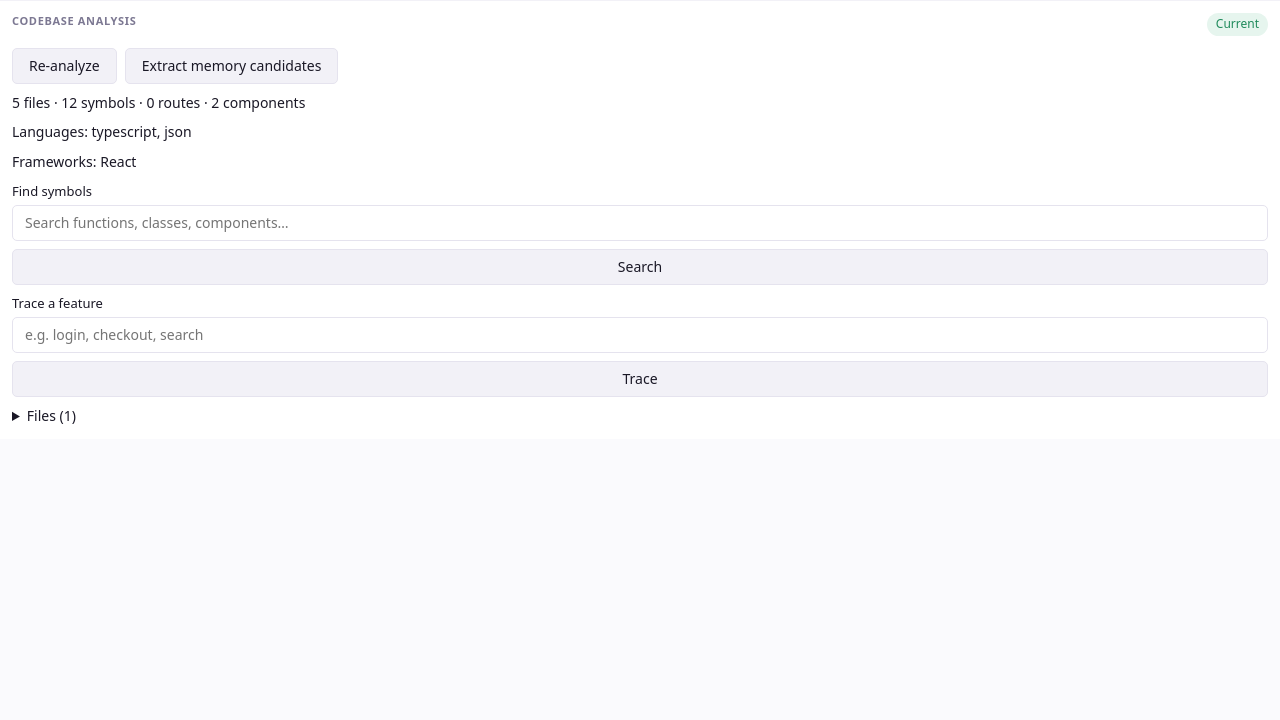
Test: CodebasePanel - memory candidates › toasts the candidate count from extraction
This screenshot has width=1280, height=720.
Expected: the text "Current" is shown, [1207,13,1268,36]
Click the button "Extract memory candidates". click: [232, 66]
box: [125,48,338,84]
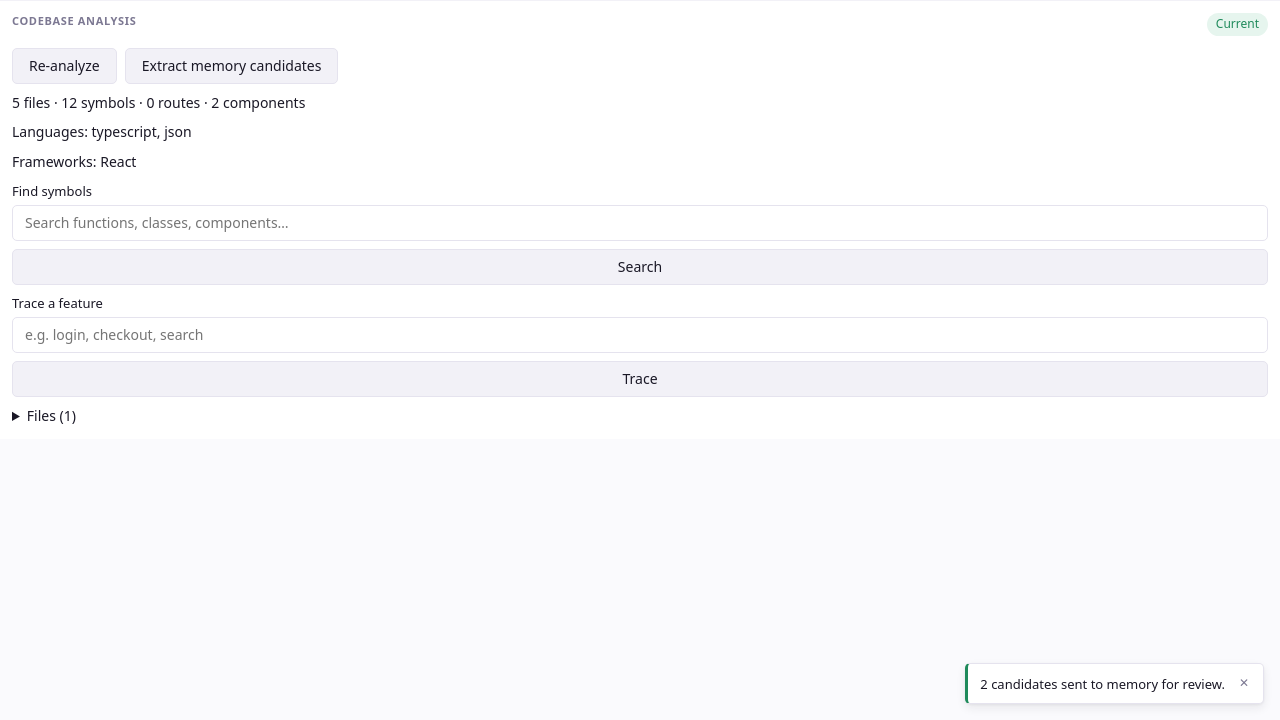
Result: the text "2 candidates sent to memory for review." is shown at [980,674,1225,694]
